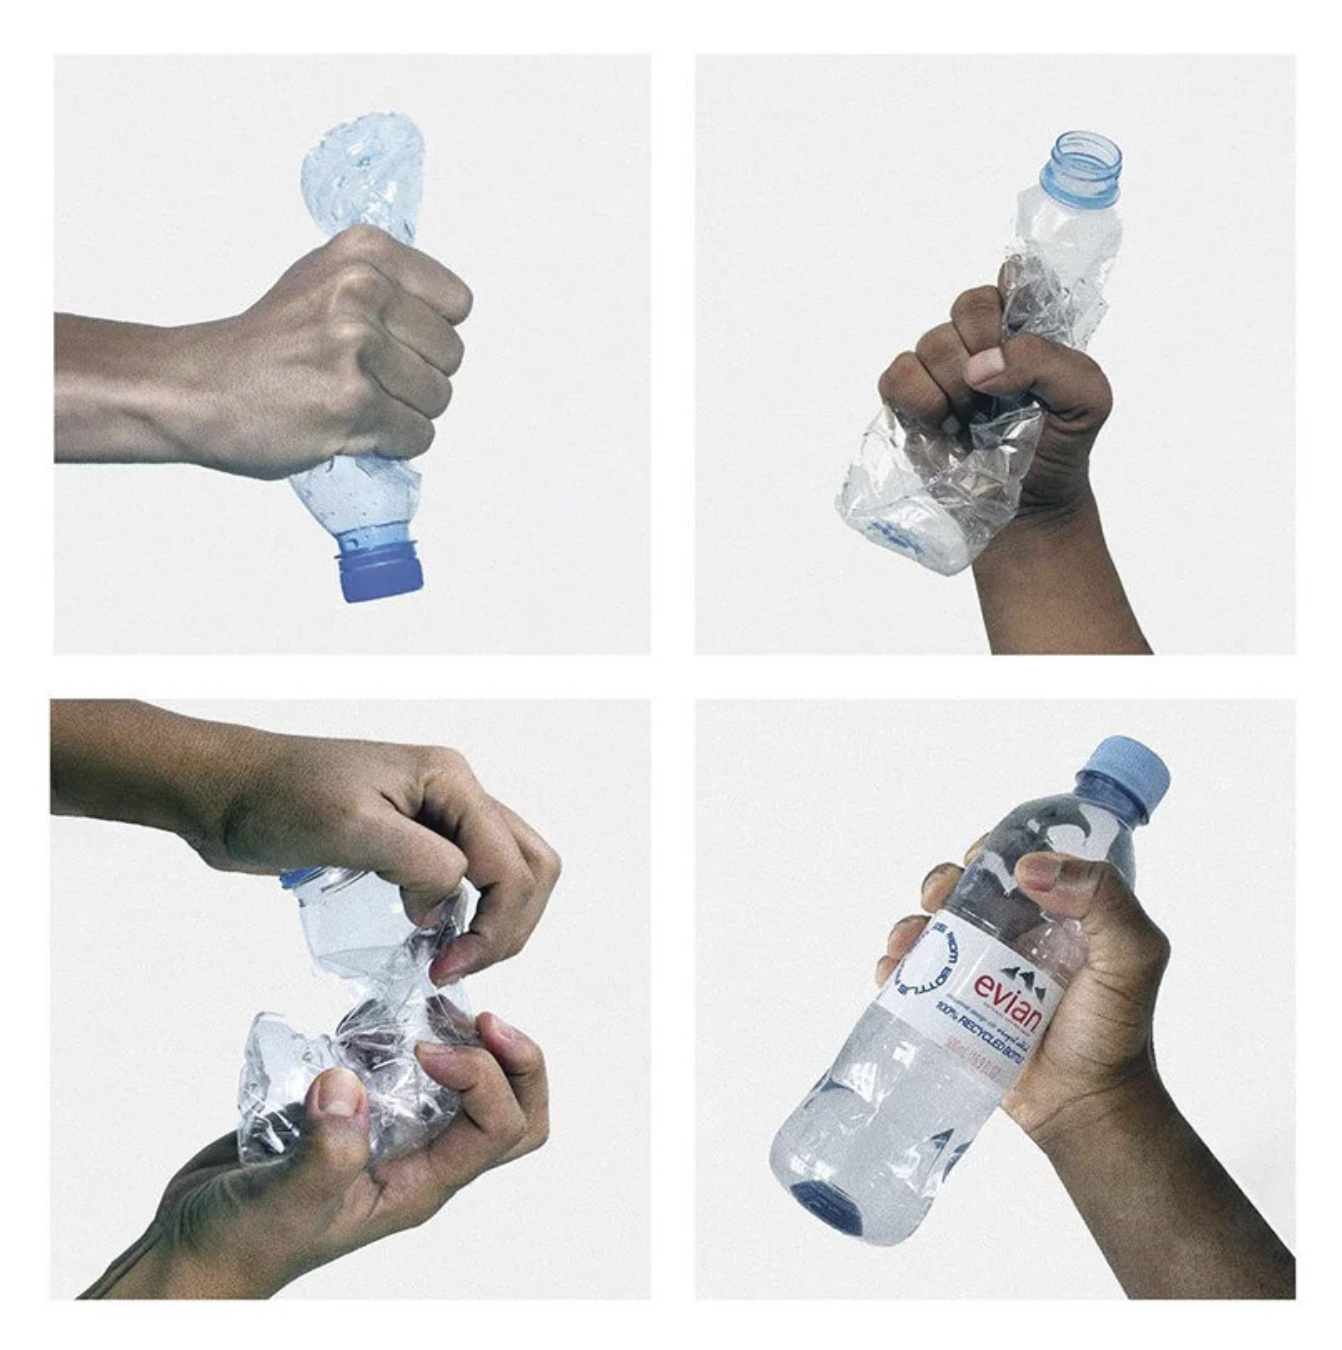PlasticBottle: (762, 728, 1167, 1237)
